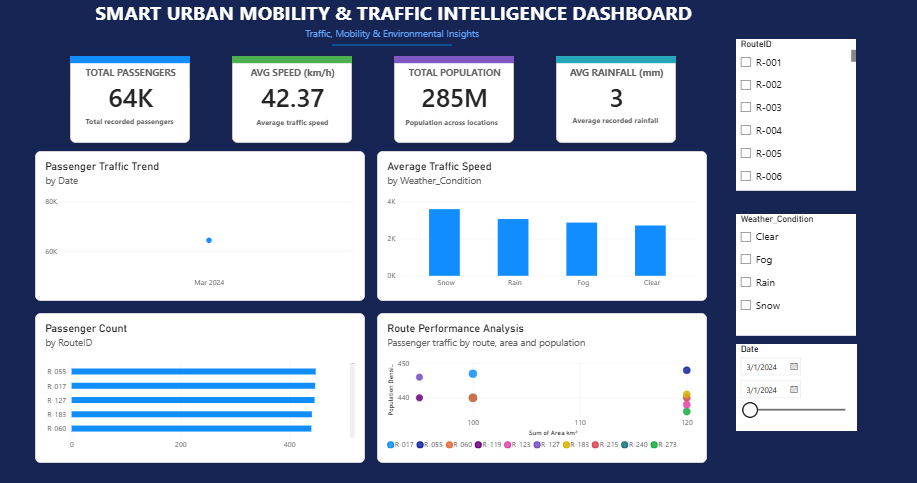

The dashboard page shown, as its layout file describes it:
{"tool":"powerbi","page":{"name":"Page 1","canvas":[1920,1080],"ordinal":0},"visuals":[{"type":"cardVisual","fields":{"Data":["FactTraffic.Total Passengers"]},"box":[198.3,94.6,200,145],"z":0},{"type":"cardVisual","fields":{"Data":["FactTraffic.Avg Speed KPI"]},"box":[468.3,94.6,200,145],"z":1000},{"type":"cardVisual","fields":{"Data":["FactTraffic.Total Population"]},"box":[738.3,94.6,200,145],"z":2000},{"type":"cardVisual","fields":{"Data":["FactTraffic.Avg Rainfall KPI"]},"box":[1008.3,94.6,200,145],"z":3000},{"type":"textbox","box":[228.3,-0.4,1018.8,77.5],"z":4000},{"type":"textbox","box":[211.2,47.4,1047.1,38.6],"z":5000},{"type":"shape","box":[634.6,2.1,200,150],"z":6000},{"type":"shape","box":[198.3,94.6,200,12],"z":7000},{"type":"shape","box":[468.3,94.6,200,12],"z":8000},{"type":"shape","box":[738.3,94.6,200,12],"z":9000},{"type":"shape","box":[1008.3,94.6,200,12],"z":10000},{"type":"textbox","box":[218.3,193.3,158.8,28.8],"z":11000},{"type":"textbox","box":[505.8,194.6,125,26.2],"z":12000},{"type":"textbox","box":[744.6,194.6,178.8,22.5],"z":13000},{"type":"textbox","box":[1025.8,192.1,165,31.2],"z":14000},{"type":"lineChart","fields":{"Category":["FactTraffic.Date"],"Y":["Sum(FactTraffic.Passenger Count)"]},"box":[140,254,550,250],"z":15000},{"type":"clusteredColumnChart","fields":{"Category":["FactTraffic.Weather_Condition"],"Y":["Sum(FactTraffic.Average Speed)"]},"box":[710,254,550,250],"z":16000},{"type":"clusteredBarChart","fields":{"Category":["FactTraffic.RouteID"],"Y":["Sum(FactTraffic.Passenger Count)"]},"box":[140,524,550,250],"z":17000},{"type":"scatterChart","title":"Route Performance Analysis","fields":{"Series":["FactTraffic.RouteID"],"Size":["Sum(FactTraffic.Population)"],"X":["Sum(FactTraffic.Area km²)"],"Y":["Sum(FactTraffic.Passenger Count)"]},"box":[710,524,550,250],"z":18000},{"type":"slicer","fields":{"Values":["FactTraffic.RouteID"]},"box":[1308.3,66.7,200,253.3],"z":19000},{"type":"slicer","fields":{"Values":["FactTraffic.Weather_Condition"]},"box":[1308.3,358.3,200,203.3],"z":20000},{"type":"slicer","fields":{"Values":["FactTraffic.Date"]},"box":[1308.3,575,200,145],"z":21000}]}

Visuals, with their boxes on the page's 1920x1080 design canvas (x1, y1, x2, y2). These are canvas units, not pixel positions in the 917x483 screenshot, which may show the page scaled, cropped or inside an application window:
cardVisual - FactTraffic.Total Passengers: rect(198, 95, 398, 240)
cardVisual - FactTraffic.Avg Speed KPI: rect(468, 95, 668, 240)
cardVisual - FactTraffic.Total Population: rect(738, 95, 938, 240)
cardVisual - FactTraffic.Avg Rainfall KPI: rect(1008, 95, 1208, 240)
textbox: rect(228, 0, 1247, 77)
textbox: rect(211, 47, 1258, 86)
shape: rect(635, 2, 835, 152)
shape: rect(198, 95, 398, 107)
shape: rect(468, 95, 668, 107)
shape: rect(738, 95, 938, 107)
shape: rect(1008, 95, 1208, 107)
textbox: rect(218, 193, 377, 222)
textbox: rect(506, 195, 631, 221)
textbox: rect(745, 195, 923, 217)
textbox: rect(1026, 192, 1191, 223)
lineChart - FactTraffic.Date x Sum(FactTraffic.Passenger Count): rect(140, 254, 690, 504)
clusteredColumnChart - FactTraffic.Weather_Condition x Sum(FactTraffic.Average Speed): rect(710, 254, 1260, 504)
clusteredBarChart - FactTraffic.RouteID x Sum(FactTraffic.Passenger Count): rect(140, 524, 690, 774)
"Route Performance Analysis" scatterChart: rect(710, 524, 1260, 774)
slicer - FactTraffic.RouteID: rect(1308, 67, 1508, 320)
slicer - FactTraffic.Weather_Condition: rect(1308, 358, 1508, 562)
slicer - FactTraffic.Date: rect(1308, 575, 1508, 720)
